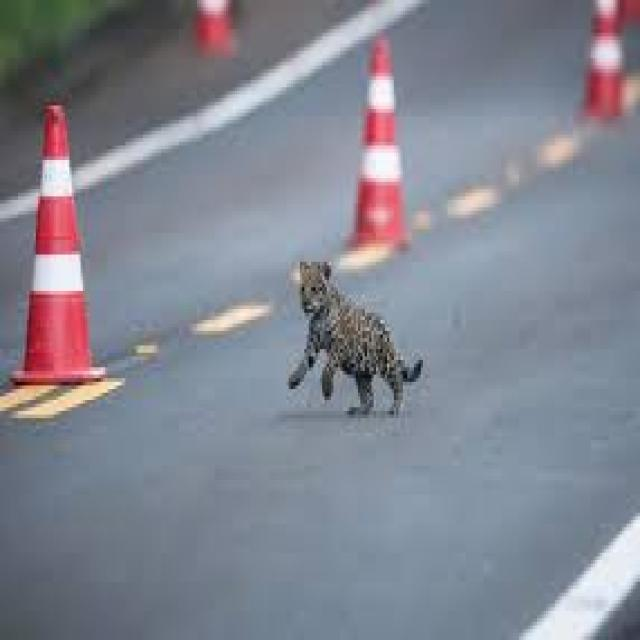Jaguar: (280, 236, 430, 418)
